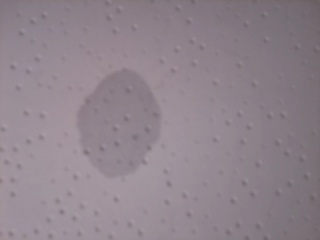Water_detected: (78, 79, 158, 169)
